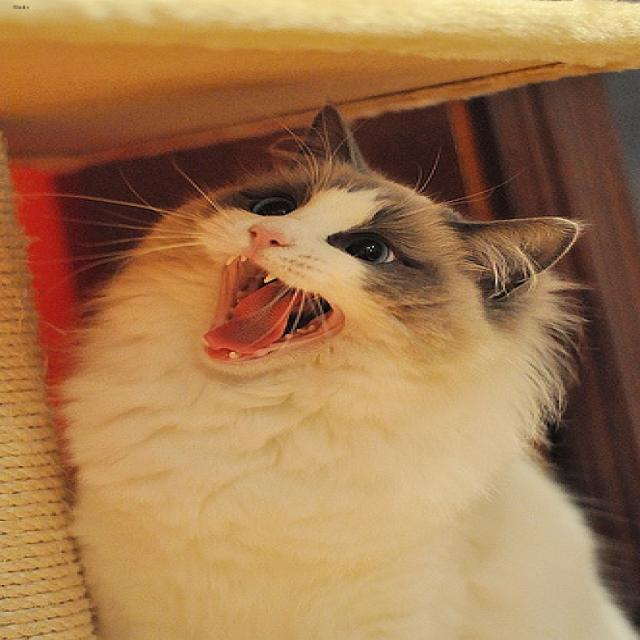Ragdoll: (162, 102, 574, 374)
